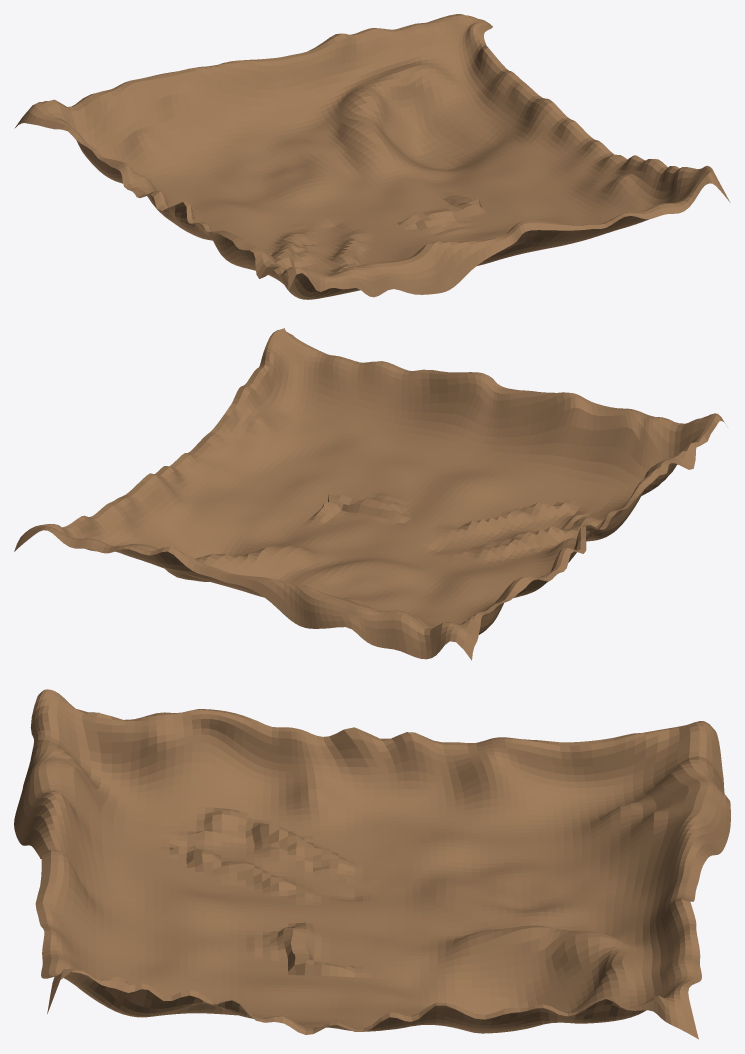
Rendered from Cyber_Car_and_Jeep_with_some_dirt.fbx.
3 views of the same model, one above another, from view 1: azimuth 30°, elevation 25°; view 2: azimuth 150°, elevation 25°; view 3: azimuth 270°, elevation 25° (orthographic). The views are drawn at different scales.
Parts seen in each view (by area): view 1: Plane; view 2: Plane; view 3: Plane.
Part boxes in pixels (x1=…): Plane: x1=14, y1=14, x2=730, y2=299; Plane: x1=14, y1=328, x2=726, y2=660; Plane: x1=14, y1=689, x2=730, y2=1039.
Bounding box in the file's own units: 377 × 82.61 × 396.
